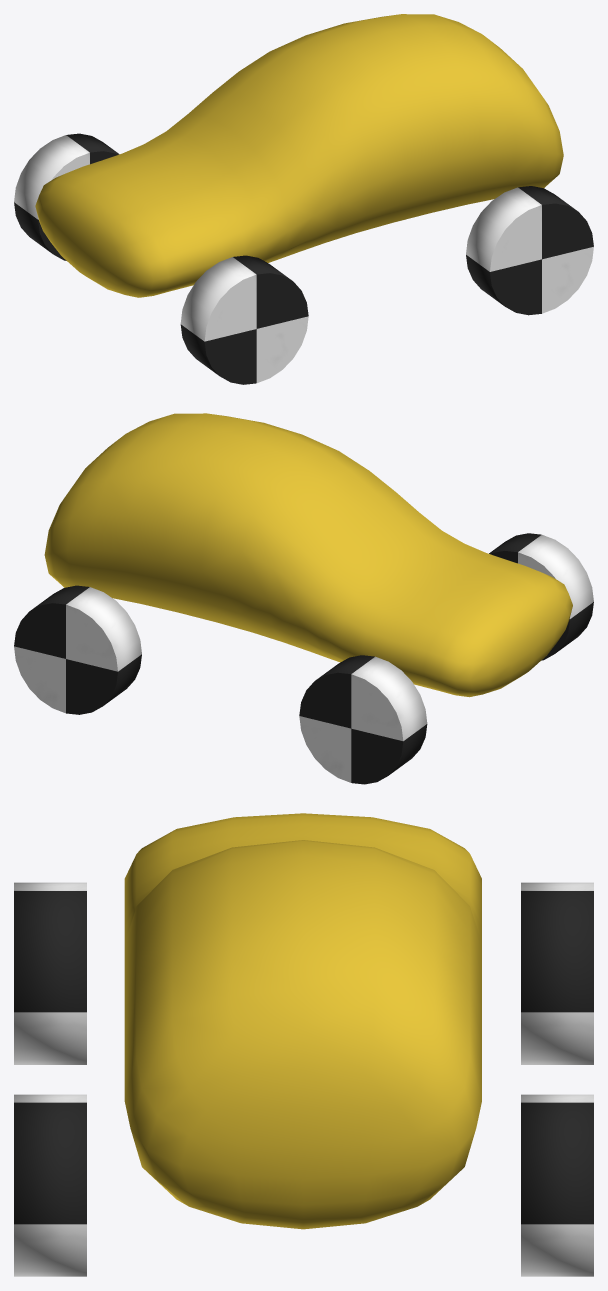
File: car.fbx
The picture shows the model from 3 angles, top to bottom: view 1: azimuth 30°, elevation 25°; view 2: azimuth 150°, elevation 25°; view 3: azimuth 270°, elevation 25°; orthographic projection. The views are drawn at different scales.
Parts seen in each view (by area): view 1: Chassi, Wheel2, Wheel1, Wheel3; view 2: Chassi, Wheel3, Wheel4, Wheel1; view 3: Chassi, Wheel3, Wheel4, Wheel2, Wheel1.
Boxes of the visible parts, box(x1,y1,x2,y2) form: Chassi: box(35, 14, 563, 297); Wheel2: box(466, 186, 593, 315); Wheel1: box(180, 255, 308, 384); Wheel3: box(14, 133, 119, 260); Chassi: box(44, 413, 572, 697); Wheel3: box(299, 655, 427, 784); Wheel4: box(14, 585, 141, 714); Wheel1: box(489, 533, 593, 660); Chassi: box(124, 813, 481, 1229); Wheel3: box(521, 882, 593, 1064); Wheel4: box(521, 1094, 593, 1276); Wheel2: box(14, 1094, 86, 1276); Wheel1: box(14, 882, 86, 1064).
Size of the model in its own units: 152 by 72.67 by 111.
